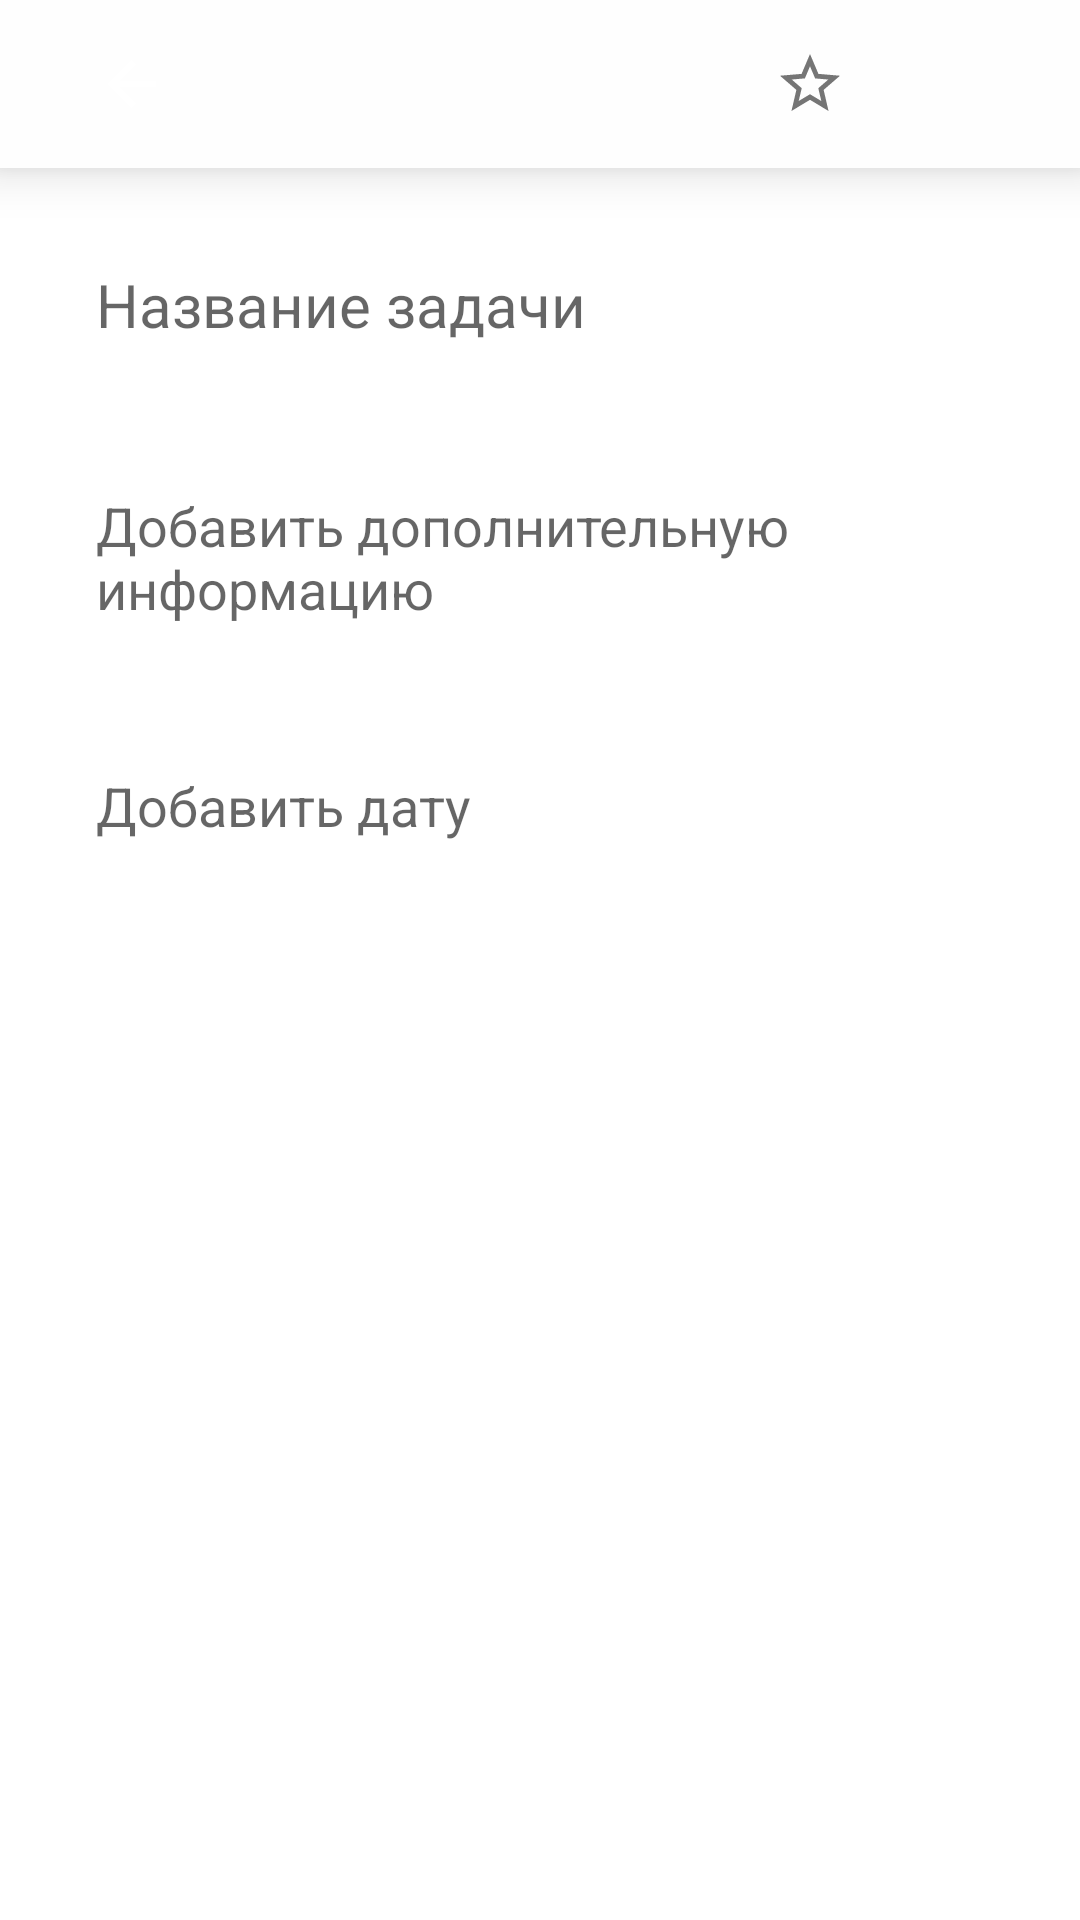

Icon bounding boxes for this 1080 × 1920 phone screenshot, format (x1, y1, x2, y2):
start checkbox: (780, 54, 840, 111)
